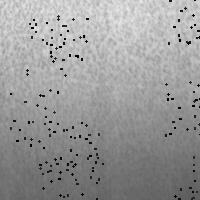pitted_surface: (3, 1, 198, 116), (26, 15, 86, 74), (43, 122, 102, 182), (10, 89, 57, 144), (39, 161, 96, 200), (165, 81, 200, 134), (168, 0, 200, 50), (174, 156, 200, 200)
